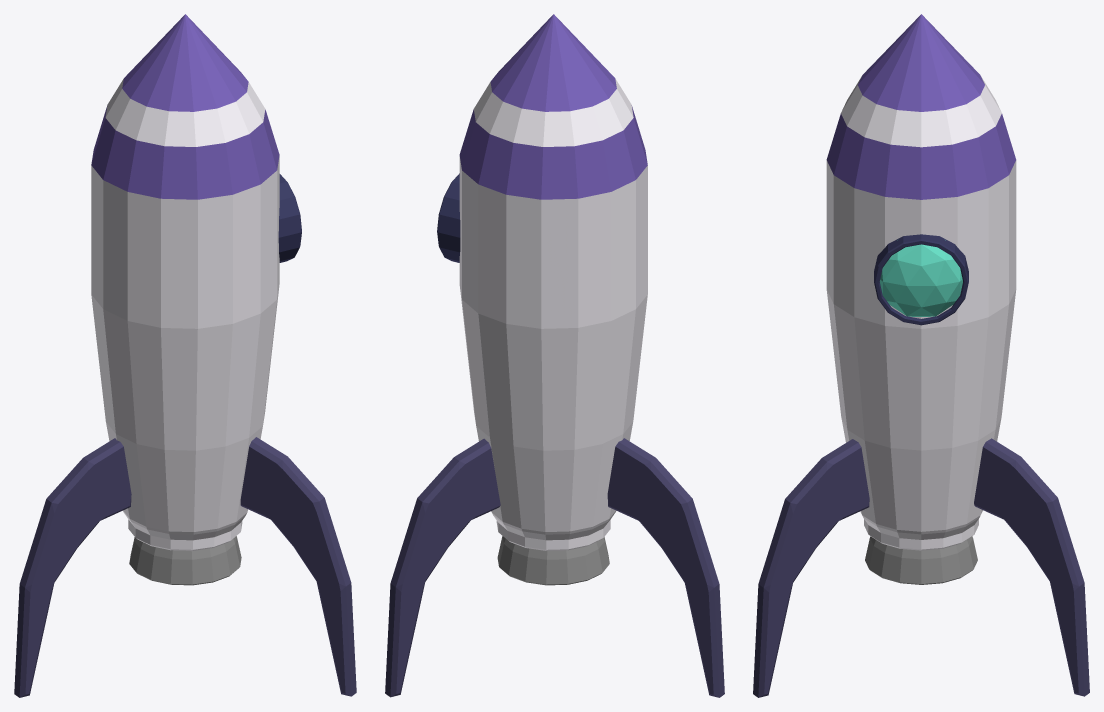
File: Rocketship.glb
3 renders of one model, left to right at view 1: azimuth 30°, elevation 25°; view 2: azimuth 150°, elevation 25°; view 3: azimuth 270°, elevation 25°, orthographic.
Parts seen in each view (by area): view 1: Body, Fin.003, Fin.001, Thruster, Window; view 2: Body, Fin.003, Fin.002, Thruster, Window; view 3: Body, Fin.001, Fin.002, Icosphere, Thruster, Window.
Part boxes in pixels (bbox=[...]): Body: bbox=[91, 14, 279, 550]; Fin.003: bbox=[14, 438, 131, 697]; Fin.001: bbox=[240, 437, 356, 696]; Thruster: bbox=[129, 536, 241, 585]; Window: bbox=[278, 174, 301, 262]; Body: bbox=[459, 14, 647, 550]; Fin.003: bbox=[607, 438, 724, 697]; Fin.002: bbox=[385, 438, 500, 697]; Thruster: bbox=[497, 536, 609, 585]; Window: bbox=[437, 173, 460, 262]; Body: bbox=[826, 14, 1016, 550]; Fin.001: bbox=[753, 439, 869, 697]; Fin.002: bbox=[974, 438, 1089, 696]; Icosphere: bbox=[879, 240, 962, 316]; Thruster: bbox=[865, 536, 977, 584]; Window: bbox=[874, 234, 968, 325].
Bounding box in the file's own units: 1.63 × 3.72 × 1.78.
